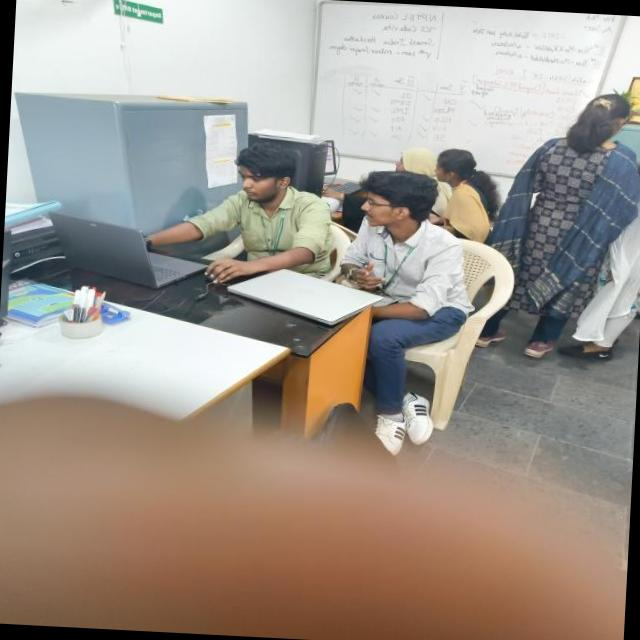id_card: (375, 225, 414, 298), (254, 190, 288, 268)
